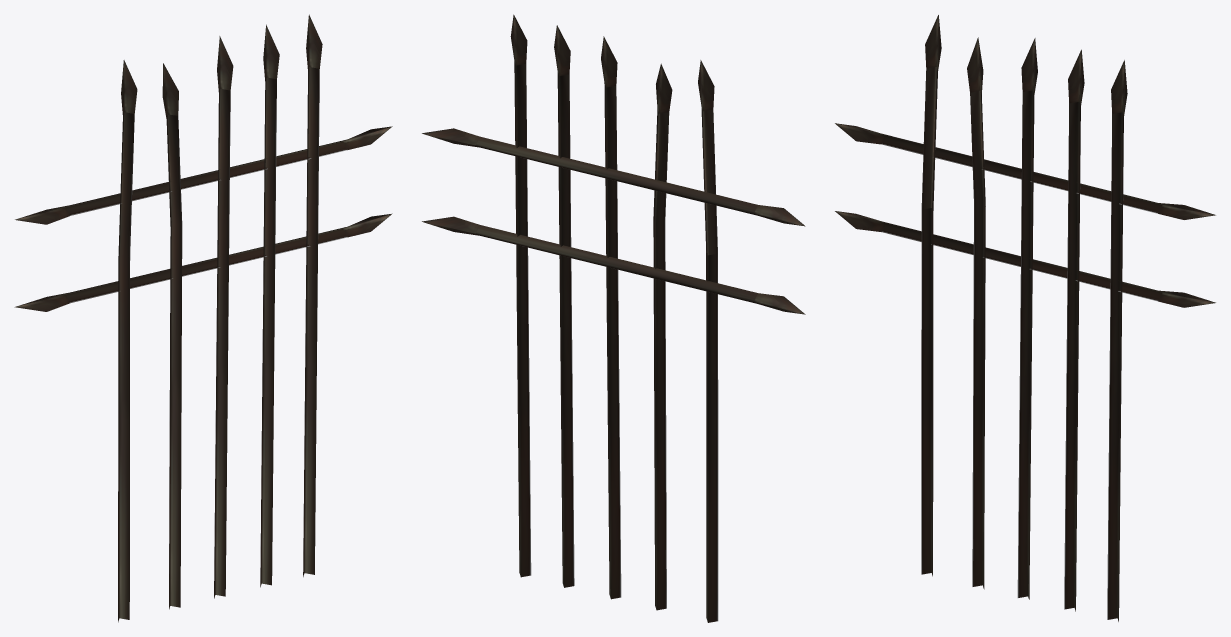
File: bar_01.FBX
3 renders of one model, left to right at view 1: azimuth 30°, elevation 25°; view 2: azimuth 150°, elevation 25°; view 3: azimuth 330°, elevation 25°, orthographic.
Visible parts, largest first — view 1: bar_01; view 2: bar_01; view 3: bar_01.
Part boxes in pixels (box(x1,y1,x2,y2)): bar_01: box(14, 14, 392, 622); bar_01: box(422, 14, 805, 622); bar_01: box(835, 15, 1215, 621).
Size of the model in its own units: 2.21 by 3.09 by 0.0973.
1 material, 1 textured.
